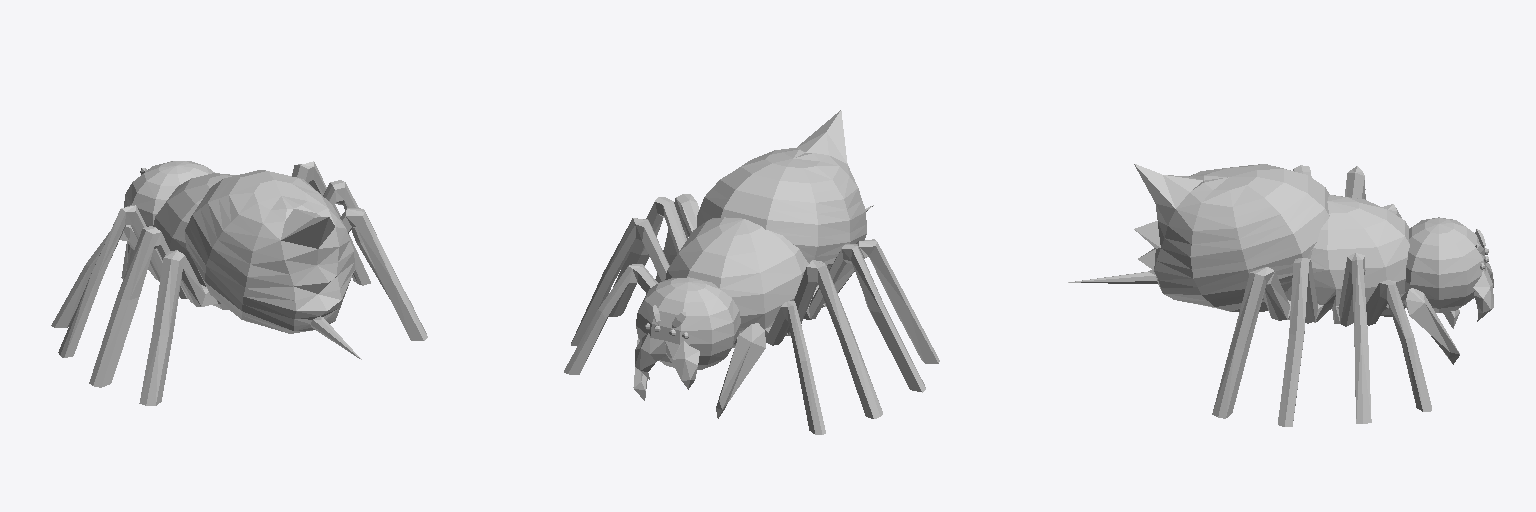
The model's file is spider_small_medium.obj.
3 views of the same model, side by side, from view 1: azimuth 30°, elevation 25°; view 2: azimuth 150°, elevation 25°; view 3: azimuth 270°, elevation 25° (orthographic).
Parts seen in each view (by area): view 1: pSphere9; view 2: pSphere9; view 3: pSphere9.
Boxes of the visible parts, box(x1,y1,x2,y2) form: pSphere9: box(51, 161, 427, 405); pSphere9: box(564, 110, 939, 434); pSphere9: box(1068, 164, 1493, 426).
Bounding box in the file's own units: 7.56 × 4.17 × 8.72.